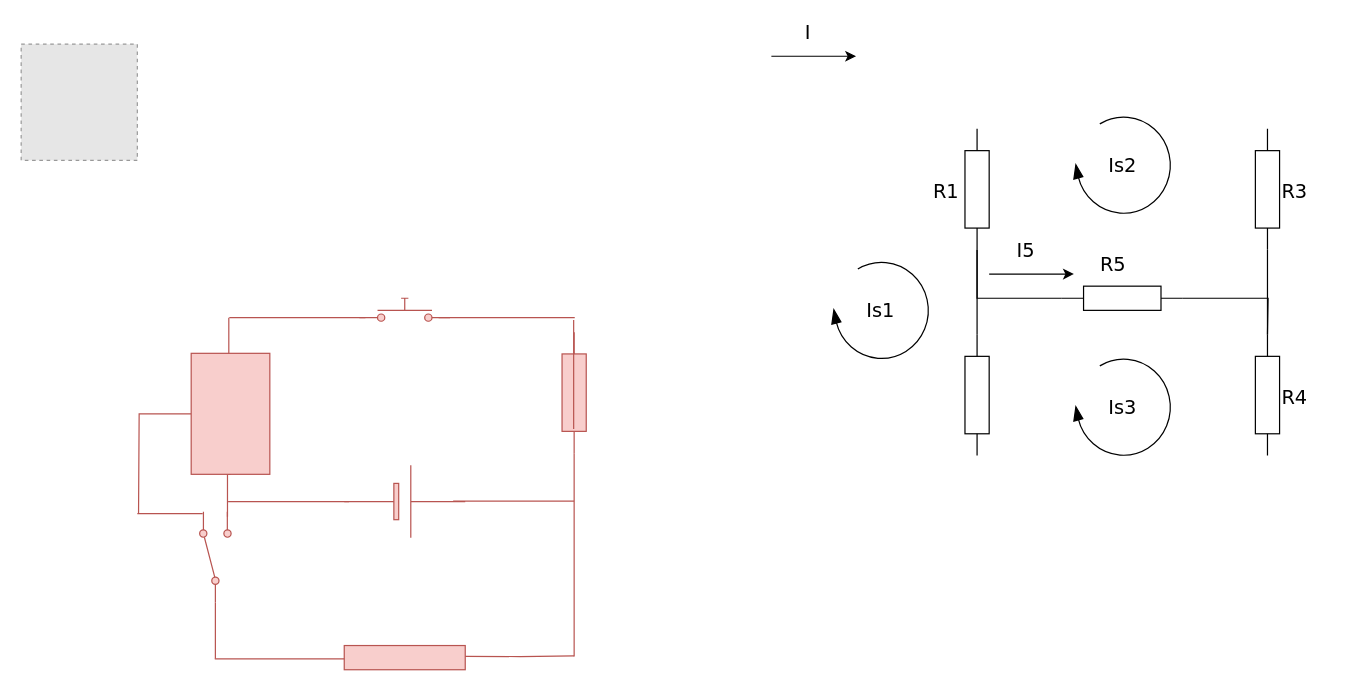
Image size: 1349x691. Some labels were removed from this diagram. Grey dashed boxes stand in for pictures. Each missing label, with the centre of its shape:
Devices: the point at 404,657
EcoGuard Chip: the point at 230,413
R2: the point at 976,394
